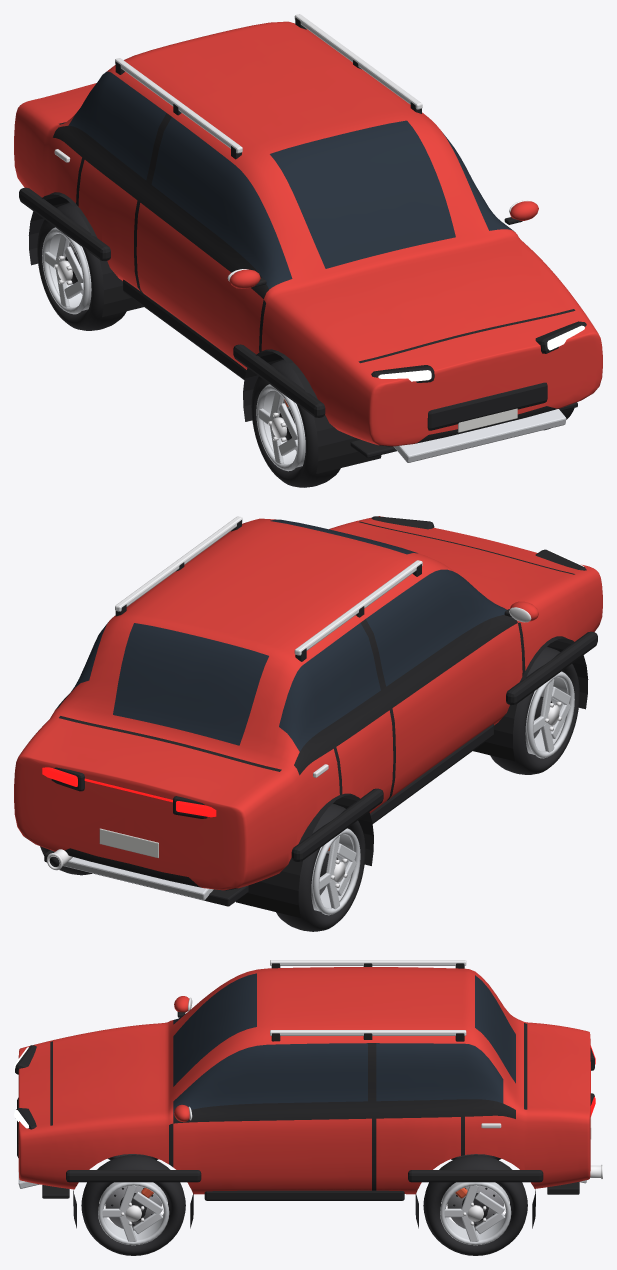
Rendered from atlas_mid.glb.
3 views of the same model, one above another, from view 1: azimuth 30°, elevation 25°; view 2: azimuth 150°, elevation 25°; view 3: azimuth 270°, elevation 25° (orthographic). The views are drawn at different scales.
Parts seen in each view (by area): view 1: body, wheel_fr, wheel_rr; view 2: body, wheel_rr, wheel_fr; view 3: body, wheel_fl, wheel_rl.
Part boxes in pixels (box(x1,y1,x2,y2)): body: box(14, 14, 602, 473); wheel_fr: box(251, 359, 340, 487); wheel_rr: box(37, 202, 126, 330); body: box(14, 516, 602, 917); wheel_rr: box(276, 803, 365, 931); wheel_fr: box(490, 647, 579, 774); body: box(14, 960, 602, 1228); wheel_fl: box(81, 1155, 185, 1255); wheel_rl: box(423, 1155, 527, 1255).
Size of the model in its own units: 2.28 by 1.88 by 4.74.
